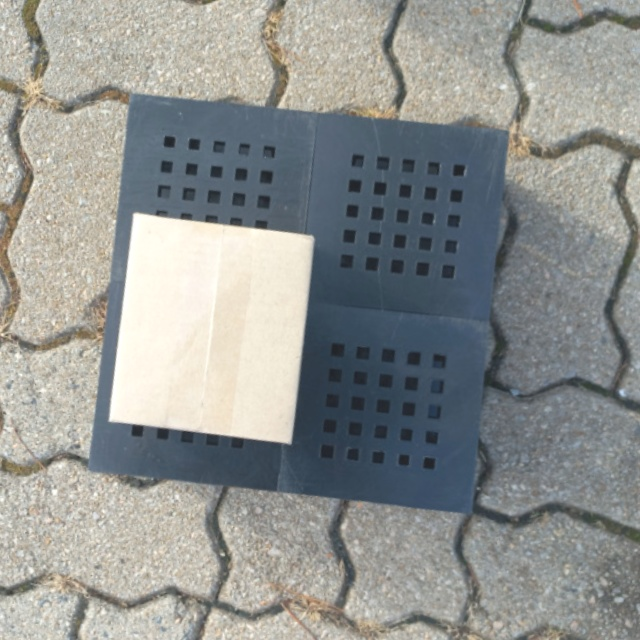box: (101, 209, 319, 447)
pallet: (73, 83, 521, 526)
